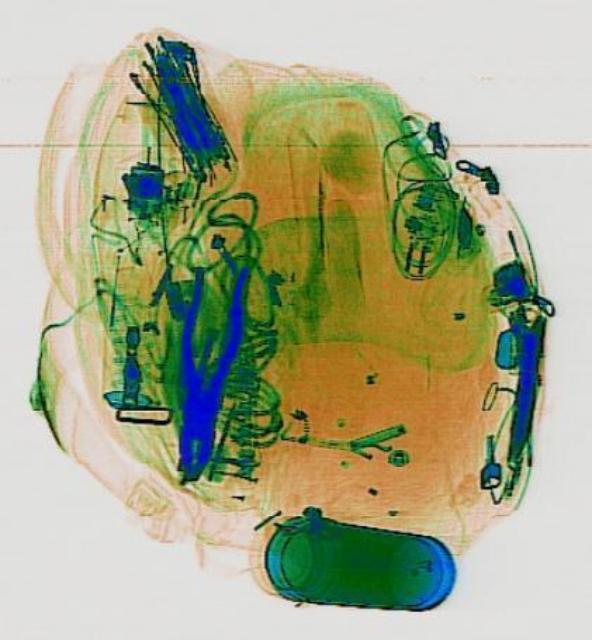Pliers: (155, 258, 250, 488)
